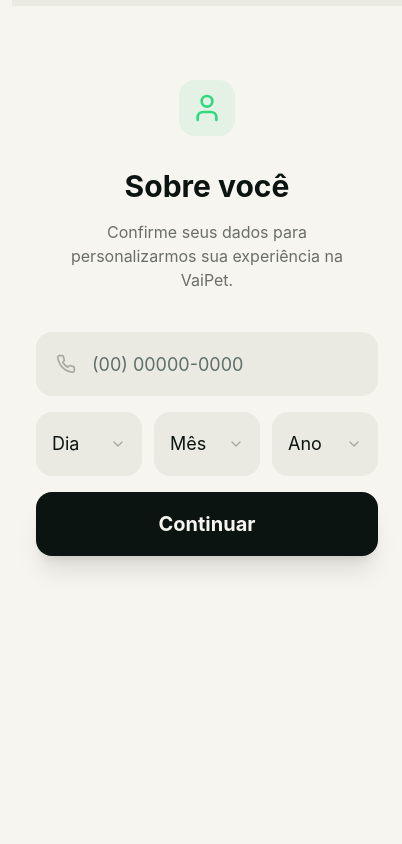
it: Onboarding mobile — layout sem sobreposição e rolagem garantida › viewport 390x844 (iPhone 14/15) › etapa 1 (Sobre você): layout mobile-seguro, todos os campos visíveis e fluxo avança
The image size is (402, 844).
expect the heading "Sobre você" is shown: met, box [125,168,289,204]
expect the button "Continuar" is shown: met, box [36,492,378,556]
# Fluxo completa na largura estreita do viewport.
In the field with placeholder "(00) 00000-0000": {"x": 207, "y": 364} [36,332,378,396], type "11988887777"
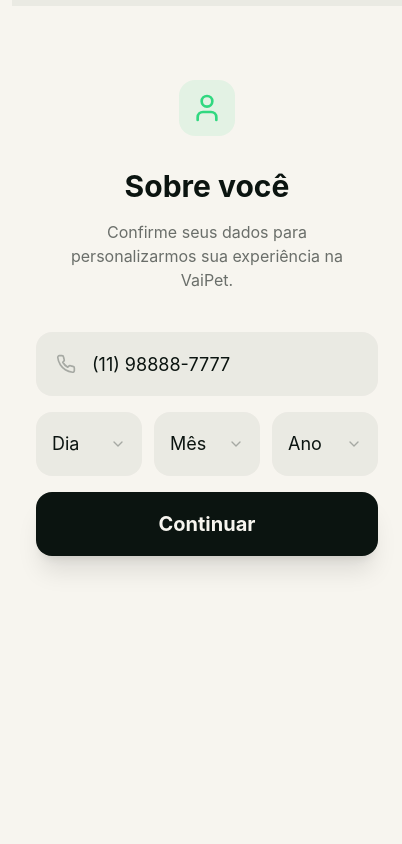
Select "10" in the 1st dropdown: {"x": 89, "y": 444} [36,412,142,476]
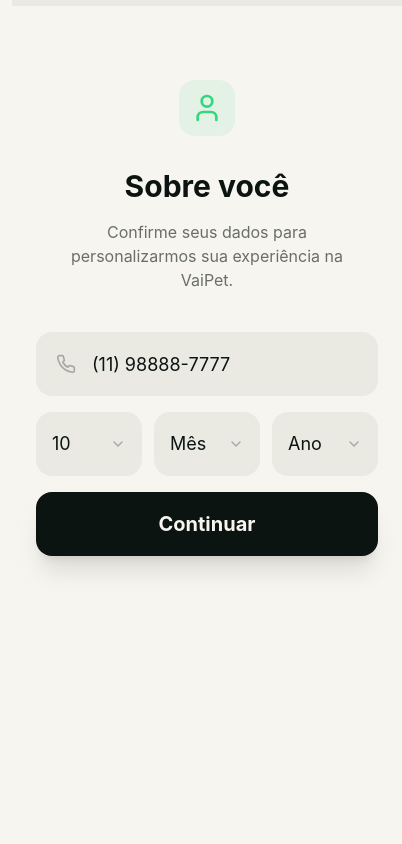
Select "5" in the 2nd dropdown: {"x": 207, "y": 444} [154,412,260,476]
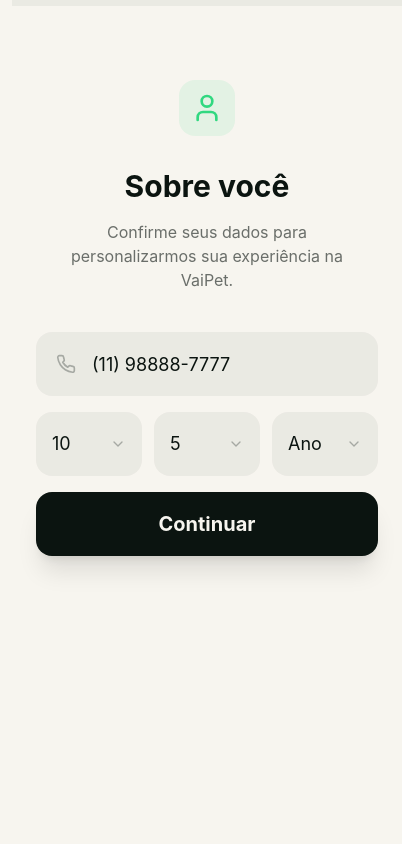
Select "1990" in the 3rd dropdown: {"x": 325, "y": 444} [272,412,378,476]
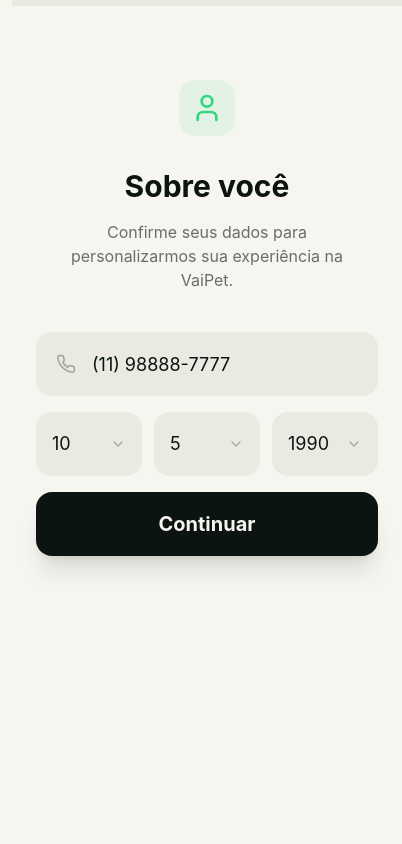
Click the button "Continuar": {"x": 207, "y": 524} [36,492,378,556]
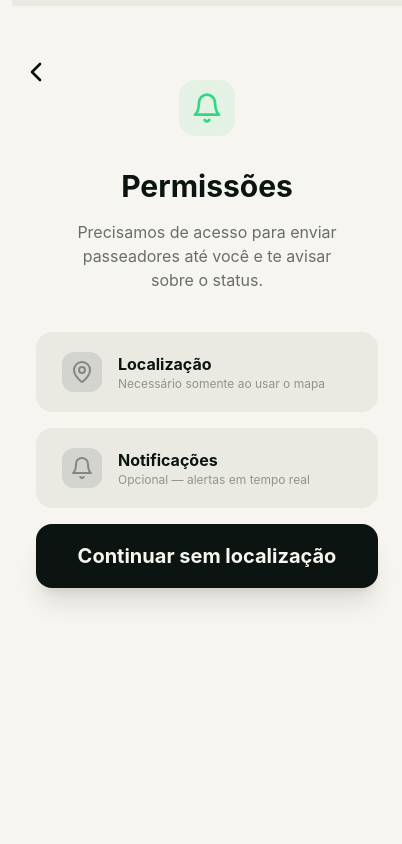
expect the heading "Permissões" is shown: met, box [121,168,293,204]
